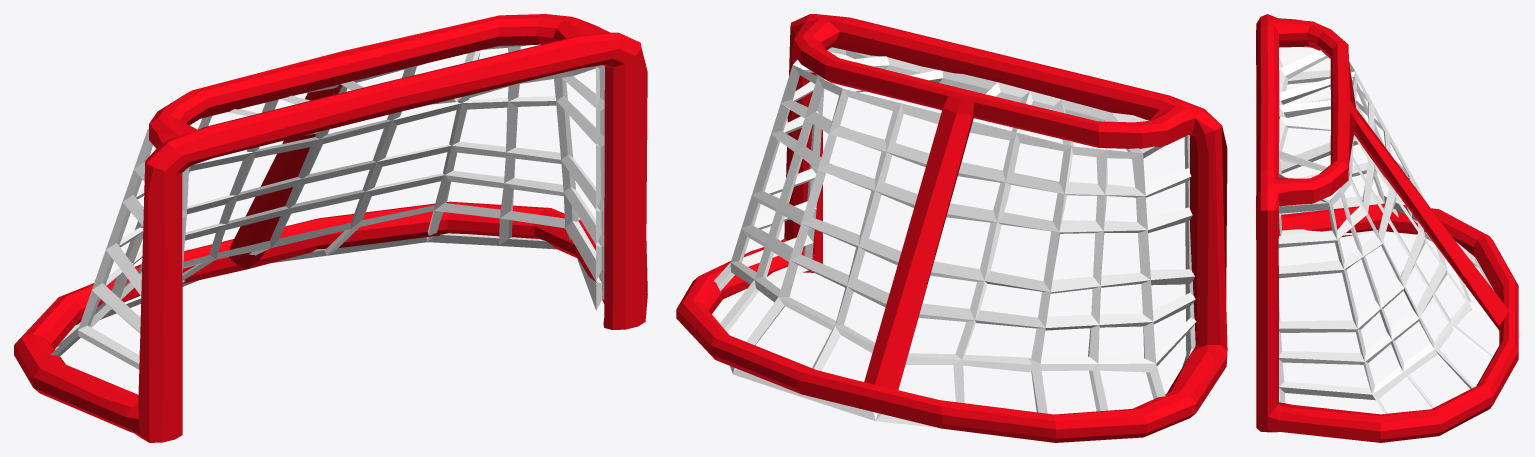
The model's file is posts.glb.
The picture shows the model from 3 angles, left to right: view 1: azimuth 30°, elevation 25°; view 2: azimuth 150°, elevation 25°; view 3: azimuth 270°, elevation 25°; orthographic projection. The views are drawn at different scales.
Parts seen in each view (by area): view 1: posts_object, net; view 2: posts_object, net; view 3: posts_object, net.
Part boxes in pixels (x1,y1,x2,y2): posts_object: [14, 14, 647, 442]; net: [50, 45, 604, 369]; posts_object: [676, 14, 1227, 442]; net: [712, 47, 1196, 427]; posts_object: [1256, 14, 1518, 442]; net: [1278, 46, 1520, 414].
Size of the model in its own units: 5.61 by 2.83 by 2.78.
